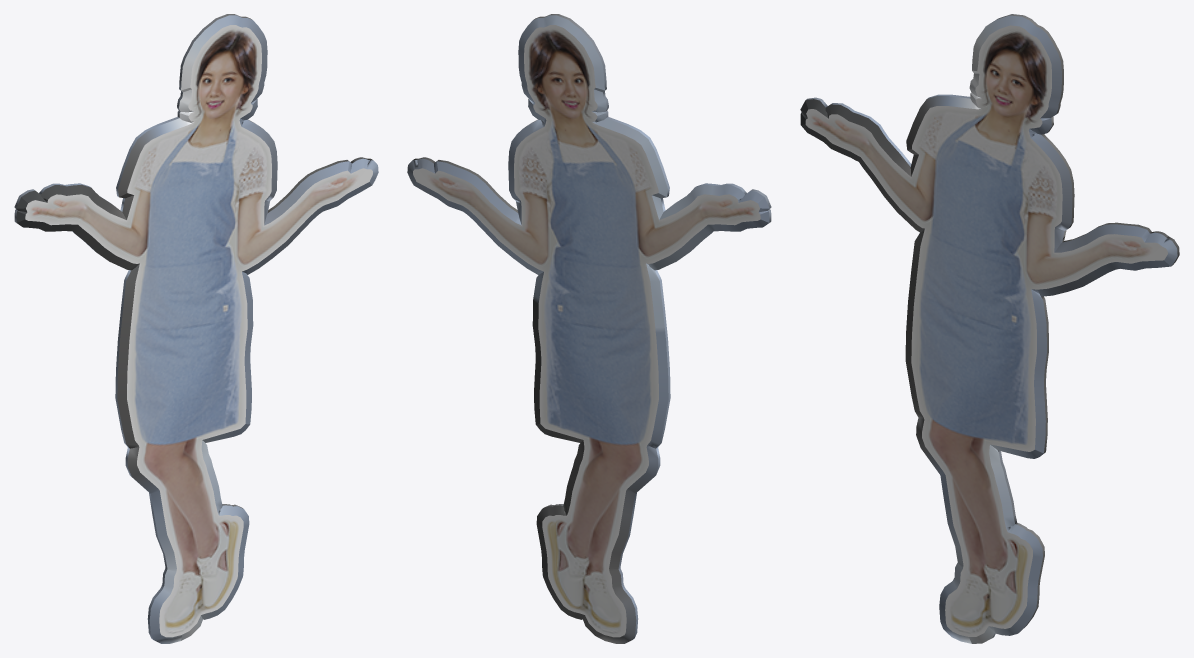
File: panel_hyeri1.FBX
3 views of the same model, side by side, from view 1: azimuth 30°, elevation 25°; view 2: azimuth 150°, elevation 25°; view 3: azimuth 330°, elevation 25° (orthographic). The views are drawn at different scales.
Parts seen in each view (by area): view 1: panel_hyeri1; view 2: panel_hyeri1; view 3: panel_hyeri1.
Boxes of the visible parts, x1,y1,x2,y2 form: panel_hyeri1: (14, 14, 378, 643); panel_hyeri1: (407, 14, 771, 643); panel_hyeri1: (800, 14, 1179, 643).
Bounding box in the file's own units: 139 × 225 × 3.9.
